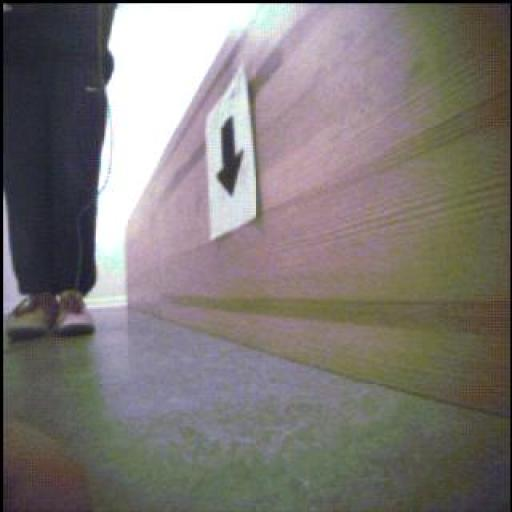Arrow: (219, 118, 244, 196)
